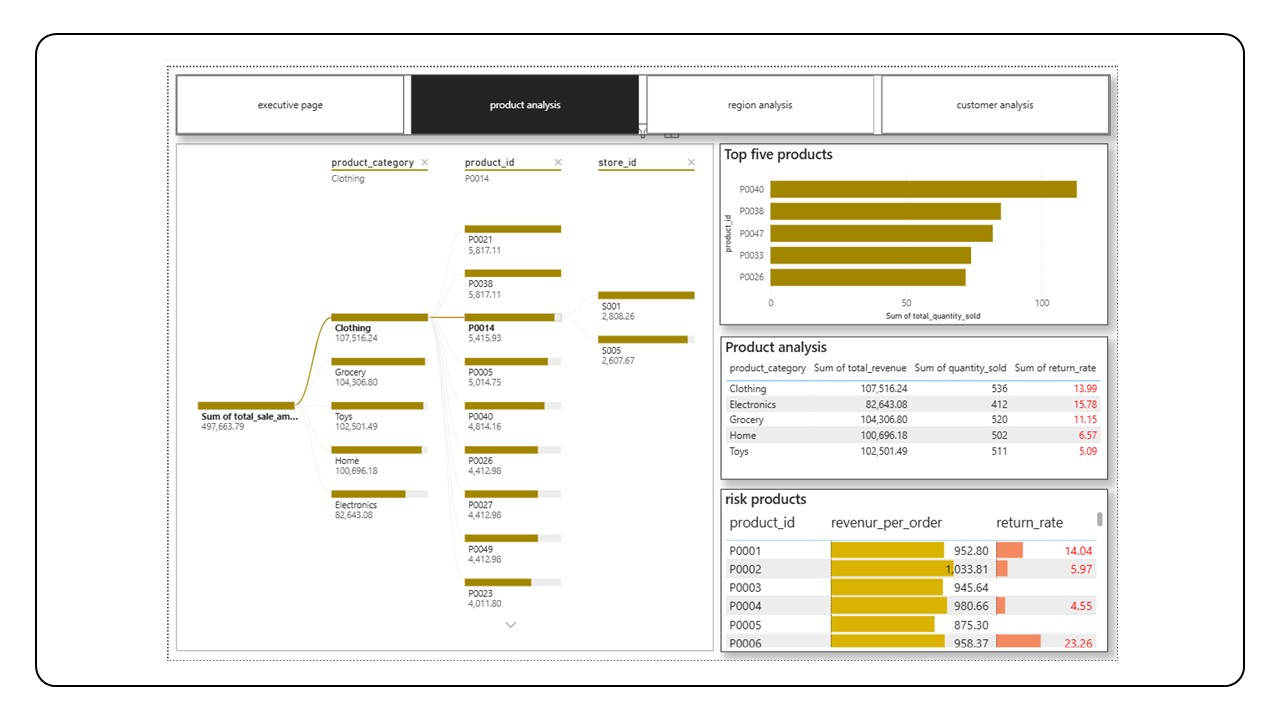

This screenshot's page, from the dashboard's own definition file:
{"tool":"powerbi","page":{"name":"product analysis","canvas":[1280,800],"ordinal":1},"visuals":[{"type":"clusteredBarChart","title":"Top five products","fields":{"Y":["Sum(public top_five.total_quantity_sold)"],"Category":["public top_five.product_id"]},"box":[743.7,102.8,523.9,245.1],"z":0},{"type":"tableEx","title":"Product analysis","fields":{"Values":["public avg_unit_price_category.product_category","Sum(public category_returned_revenue_rate.total_revenue)","Sum(public sales_data_clean.quantity_sold)","Sum(public category_returned_revenue_rate.return_rate)"]},"box":[745.1,363.4,522.5,193],"z":1000},{"type":"decompositionTreeVisual","fields":{"Analyze":["Sum(public sales_data_clean.total_sale_amount)"],"ExplainBy":["public sales_data_clean.product_category","public sales_data_clean.product_id","public sales_data_clean.store_id"]},"box":[9.9,102.8,725.4,685.9],"z":2000},{"type":"tableEx","title":"risk products","fields":{"Values":["public product_risk.product_id","public product_risk.revenur_per_order","public product_risk.return_rate"]},"box":[745.1,569,522.5,219.7],"z":3000},{"type":"pageNavigator","box":[9.9,9.9,1260.6,81.7],"z":3001}]}

Visuals, with their boxes on the page's 1280x800 design canvas (x1, y1, x2, y2). These are canvas units, not pixel positions in the 1280x720 screenshot, which may show the page scaled, cropped or inside an application window:
"Top five products" clusteredBarChart: Rect(744, 103, 1268, 348)
"Product analysis" tableEx: Rect(745, 363, 1268, 556)
decompositionTreeVisual - Sum(public sales_data_clean.total_sale_amount) x public sales_data_clean.product_category: Rect(10, 103, 735, 789)
"risk products" tableEx: Rect(745, 569, 1268, 789)
pageNavigator: Rect(10, 10, 1270, 92)
